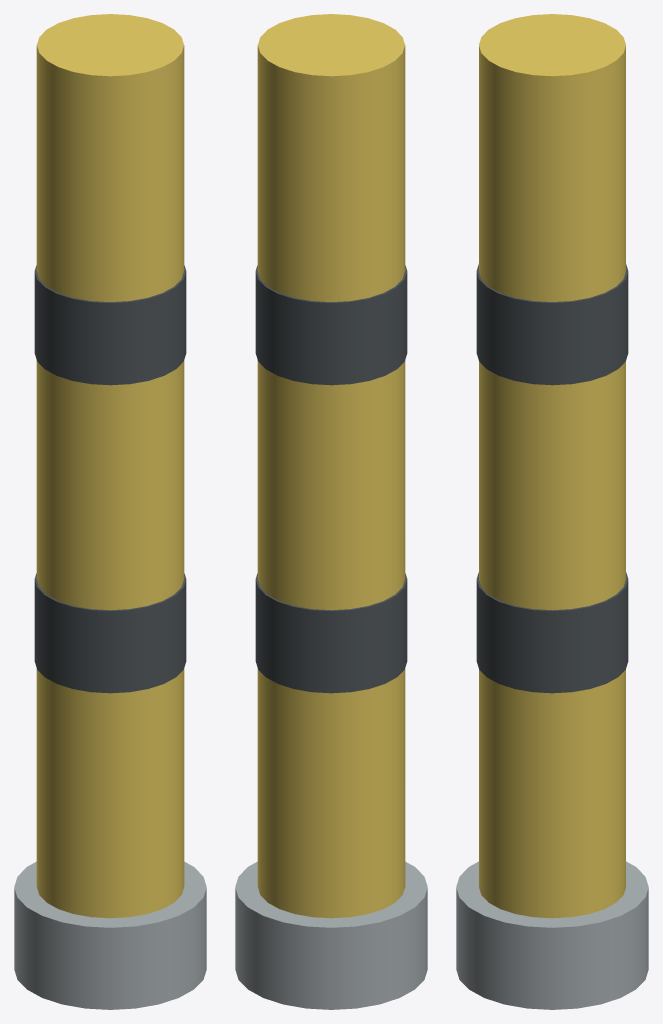
File: liminal-spaces-kit-parking-bollard-7dc1eab4__25308.glb
3 renders of one model, left to right at view 1: azimuth 30°, elevation 25°; view 2: azimuth 150°, elevation 25°; view 3: azimuth 270°, elevation 25°, orthographic.
Visible parts, largest first — view 1: parking-bollard; view 2: parking-bollard; view 3: parking-bollard.
Part boxes in pixels (x1=…): parking-bollard: x1=14, y1=14, x2=206, y2=1009; parking-bollard: x1=235, y1=14, x2=427, y2=1009; parking-bollard: x1=456, y1=14, x2=648, y2=1009.
Size of the model in its own units: 0.17 by 0.9 by 0.17.
